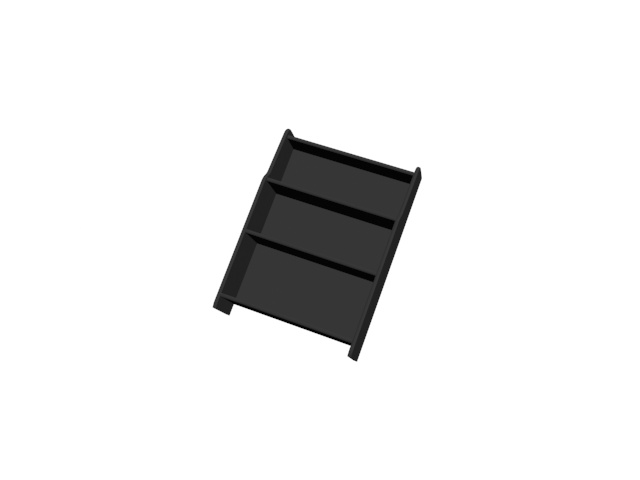bookcase: (209, 129, 424, 368)
